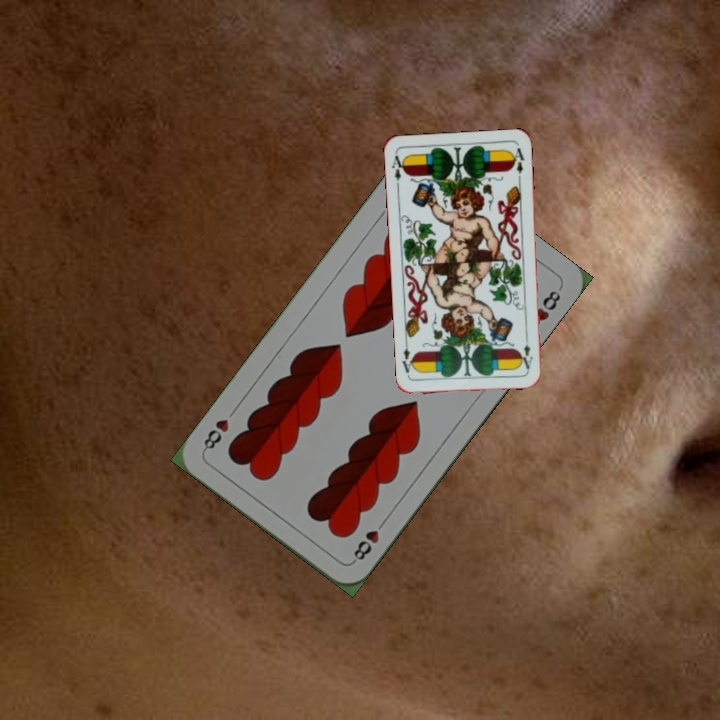EA: (387, 151, 408, 190), (519, 332, 535, 372)
H8: (348, 515, 389, 565)
